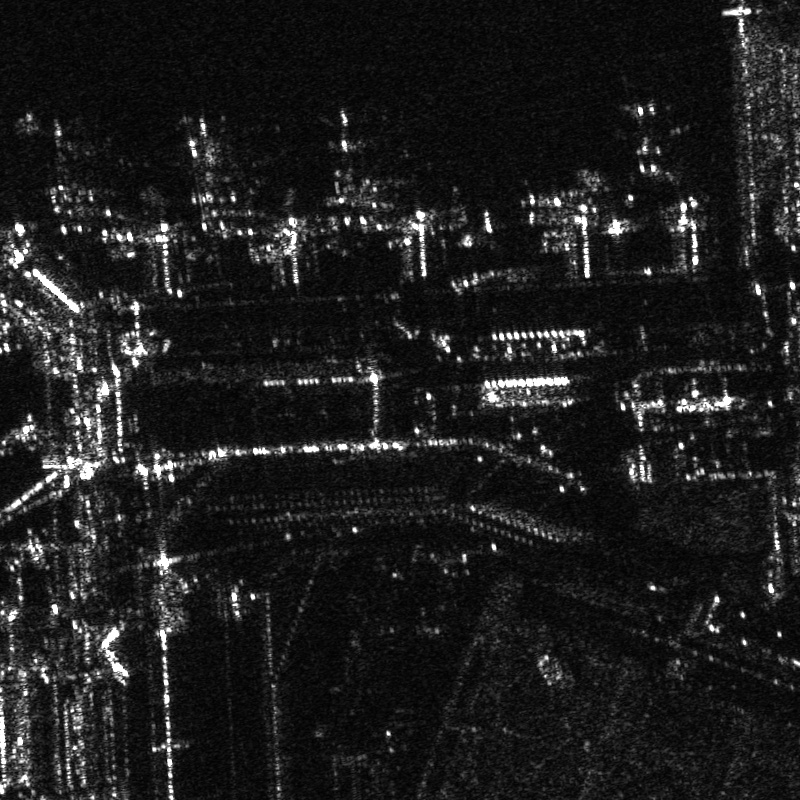A220: (176, 110, 242, 206), (616, 95, 688, 182)
Boeing787: (315, 103, 374, 183)
other: (30, 110, 109, 220)
